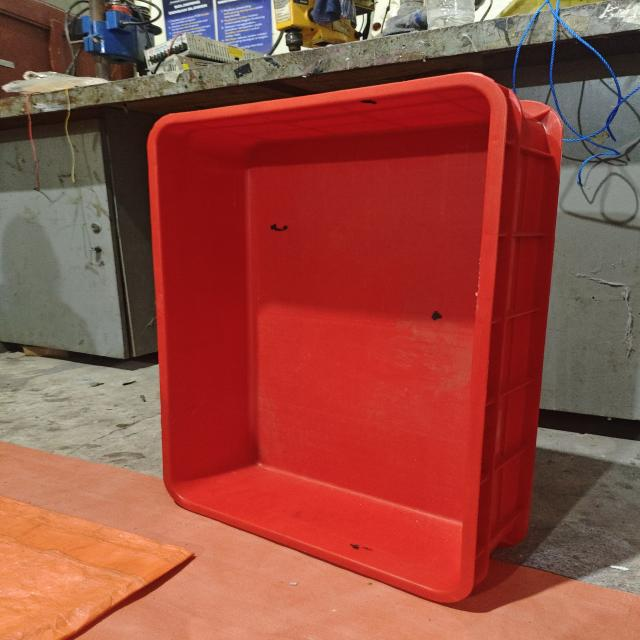red plastic box: (147, 72, 564, 602)
